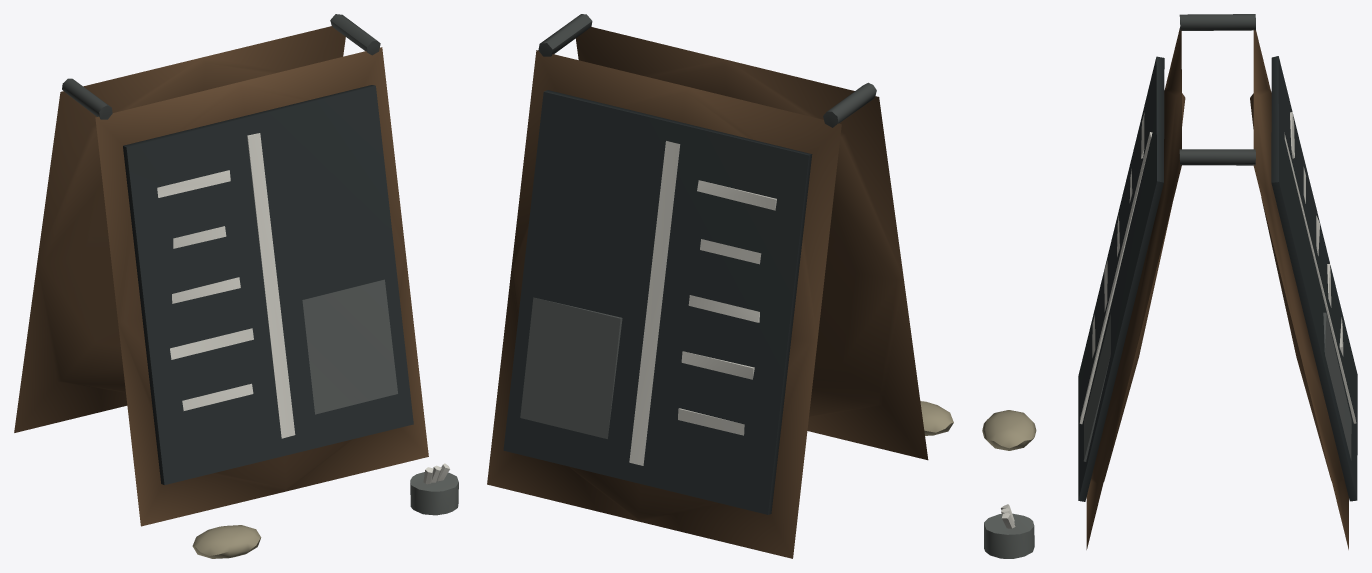
Rendered from shift_board_a_lod1.glb.
The picture shows the model from 3 angles, left to right: view 1: azimuth 30°, elevation 25°; view 2: azimuth 150°, elevation 25°; view 3: azimuth 270°, elevation 25°; orthographic projection. The views are drawn at different scales.
Parts seen in each view (by area): view 1: Surface.001; view 2: Surface.001; view 3: Surface.001.
Boxes of the visible parts, x1,y1,x2,y2 form: Surface.001: (14,14,458,558); Surface.001: (487,14,953,558); Surface.001: (982,14,1357,558).
Bounding box in the file's own units: 0.9017 × 1.19 × 0.9896.
